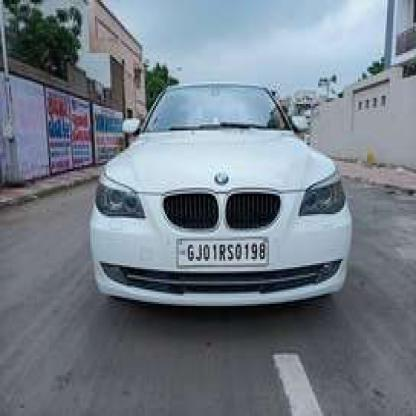license_plate: (176, 237, 266, 263)
